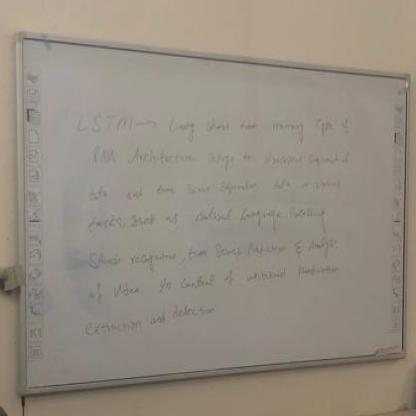Handwritten text: (84, 254, 343, 310), (81, 226, 343, 279), (77, 196, 340, 242), (68, 103, 358, 144), (82, 140, 356, 176), (71, 172, 359, 206), (77, 290, 227, 351)
Whiteboard: (7, 26, 415, 407)
